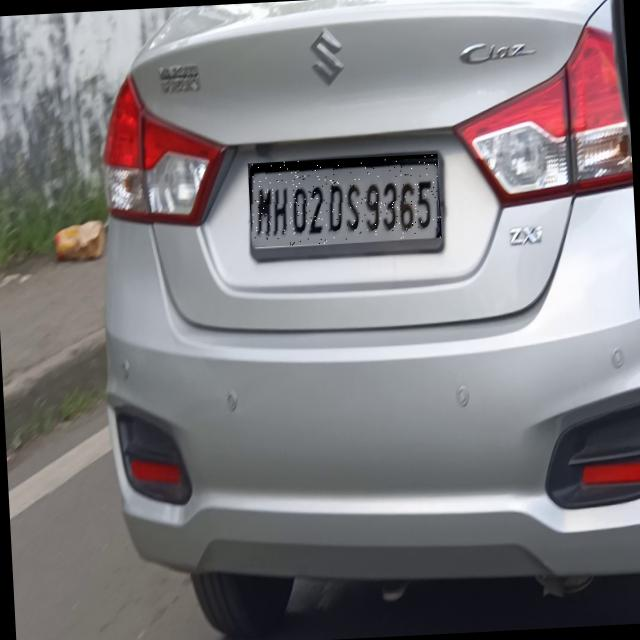Plate: (249, 155, 443, 249)
